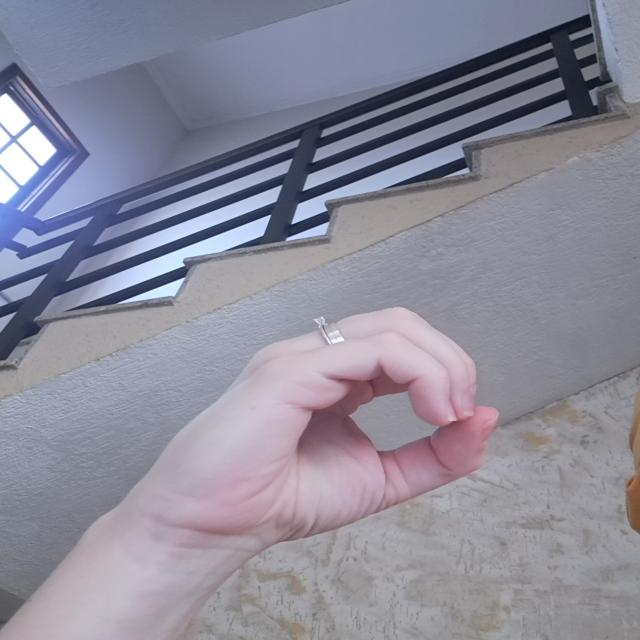O: (141, 294, 510, 547)
